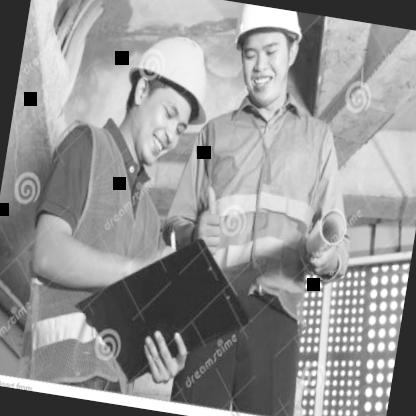helmet: (102, 16, 224, 170), (214, 1, 312, 120)
